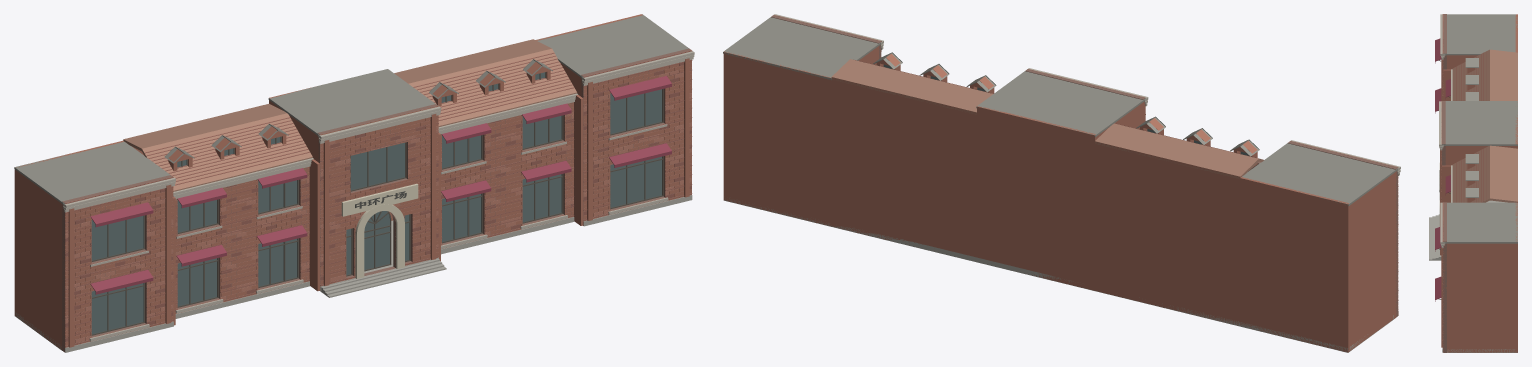
Rendered from huangpu-french-municipal-council-front-raw.glb.
3 renders of one model, left to right at view 1: azimuth 30°, elevation 25°; view 2: azimuth 150°, elevation 25°; view 3: azimuth 270°, elevation 25°, orthographic. The views are drawn at different scales.
Visible parts, largest first — view 1: 法公董局旧址（淮海中路保留立面）; view 2: 法公董局旧址（淮海中路保留立面）; view 3: 法公董局旧址（淮海中路保留立面）.
Part boxes in pixels (x1,y1,x2,y2): 法公董局旧址（淮海中路保留立面）: (14, 14, 694, 352); 法公董局旧址（淮海中路保留立面）: (723, 14, 1400, 352); 法公董局旧址（淮海中路保留立面）: (1429, 14, 1517, 352).
Size of the model in its own units: 59.43 by 14.2 by 9.77.
